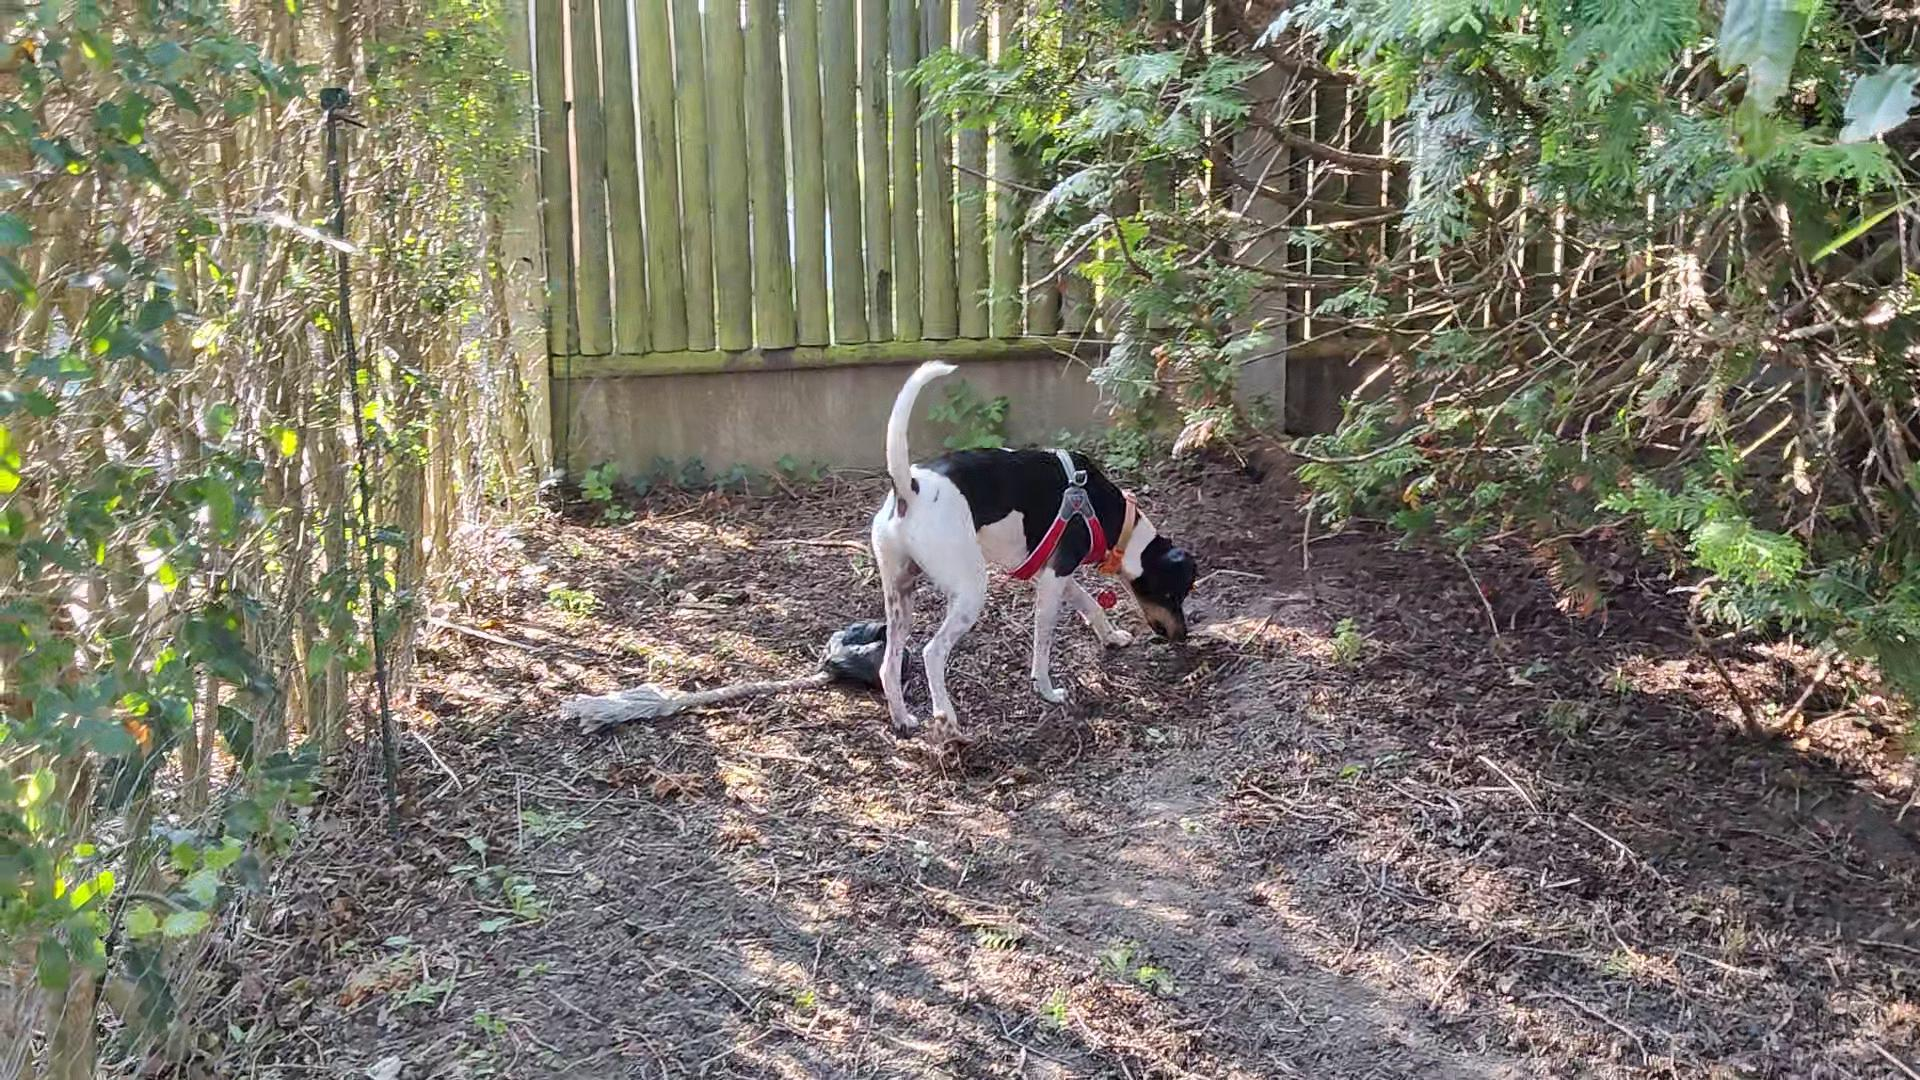Dog: (858, 349, 1200, 742)
